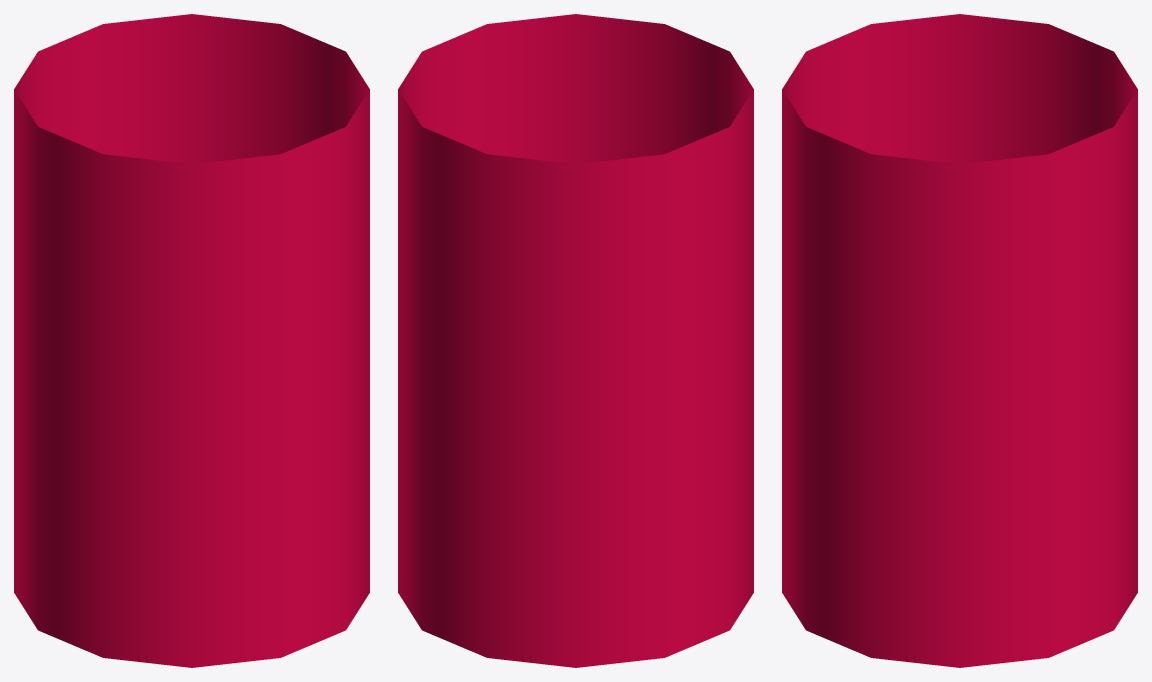
File: pipe_s.FBX
The picture shows the model from 3 angles, left to right: view 1: azimuth 30°, elevation 25°; view 2: azimuth 150°, elevation 25°; view 3: azimuth 270°, elevation 25°; orthographic projection.
Parts seen in each view (by area): view 1: pipe_s; view 2: pipe_s; view 3: pipe_s.
Boxes of the visible parts, <box> form: pipe_s: <box>14,14,369,667</box>; pipe_s: <box>398,14,753,667</box>; pipe_s: <box>782,14,1137,667</box>.
Size of the model in its own units: 6.4 by 10 by 6.4.
